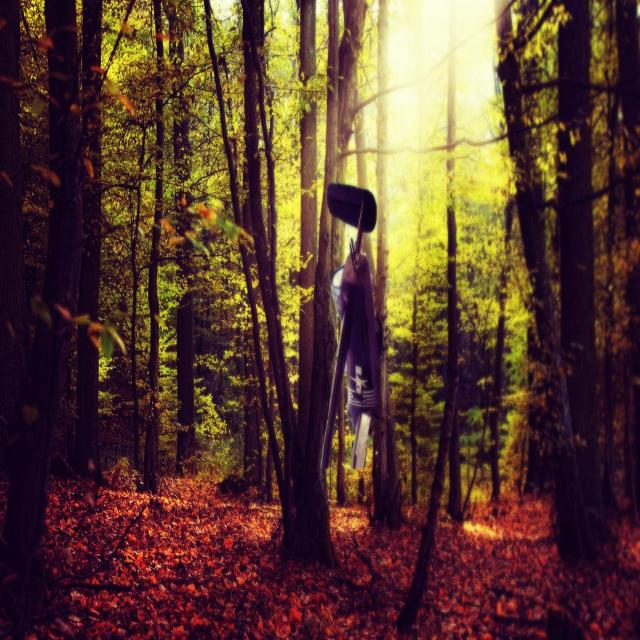airplane: (319, 181, 384, 472)
